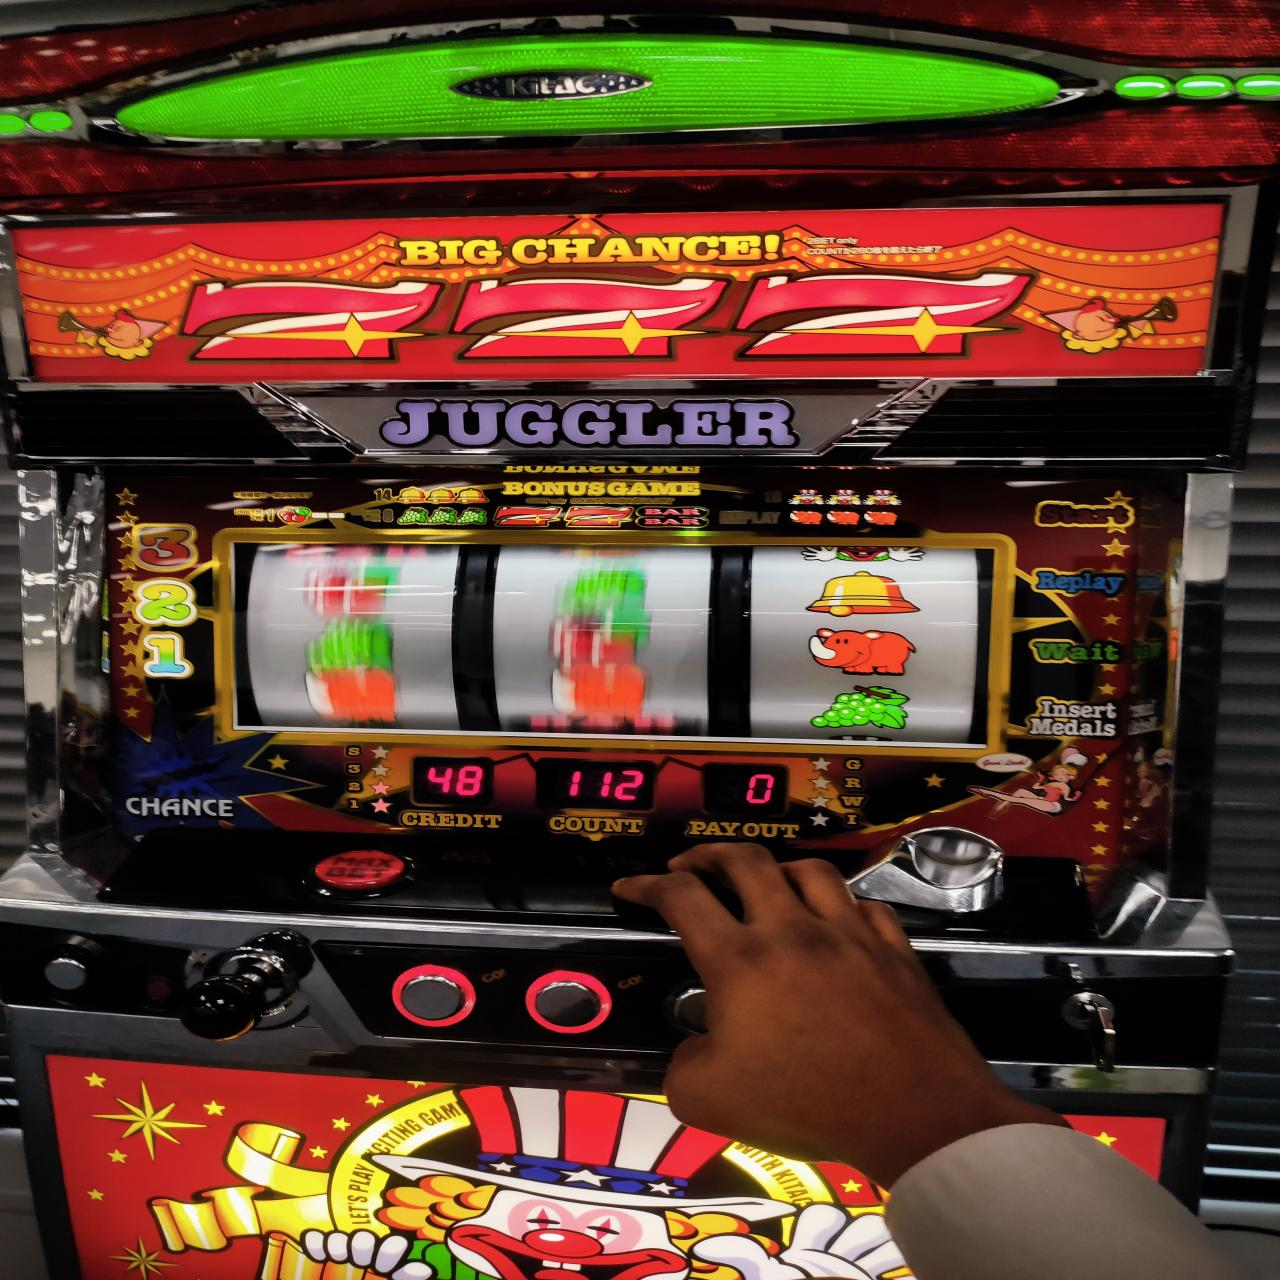8: (809, 627, 924, 678)
bell: (808, 572, 920, 614)
grape: (811, 685, 908, 728)
rhino: (232, 536, 989, 754)
